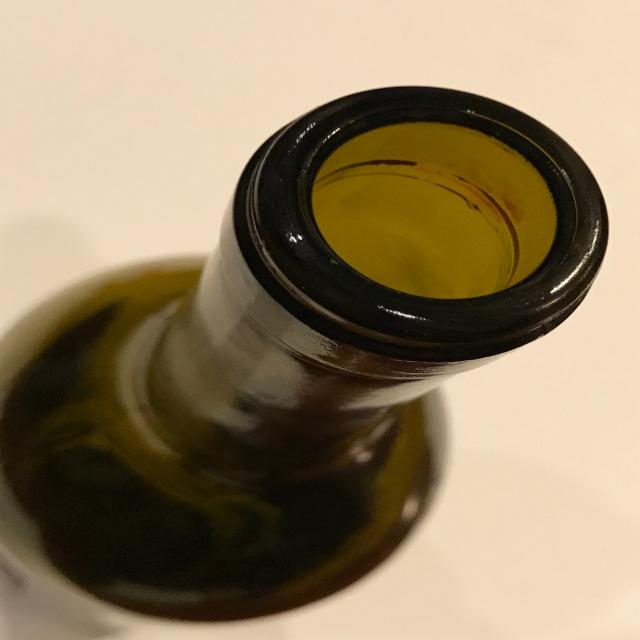glass: (0, 83, 609, 626)
